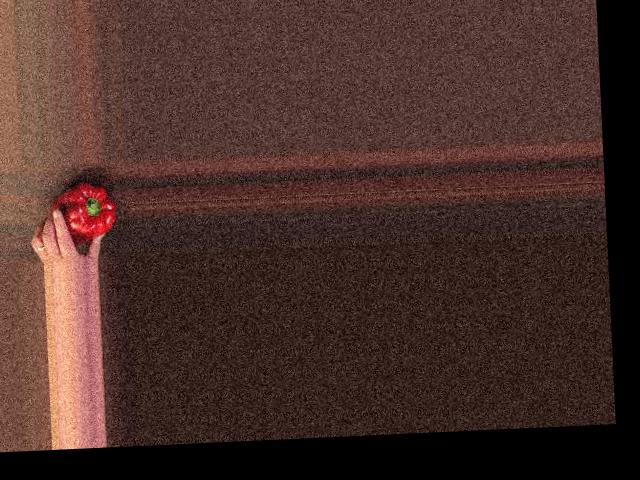bell_pepper: (53, 180, 118, 242)
